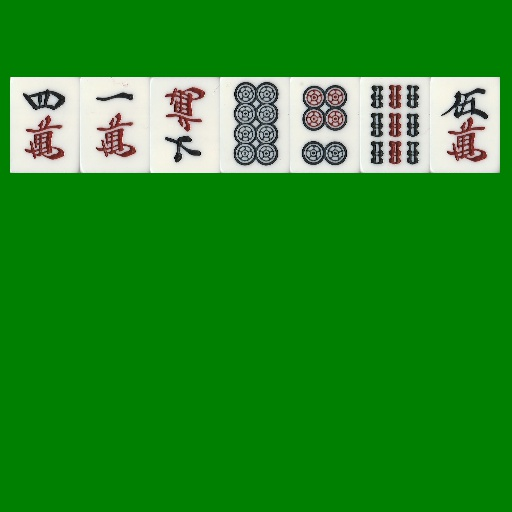1m: (80, 77, 150, 173)
4m: (10, 77, 80, 173)
5m: (430, 77, 500, 173)
6p: (290, 77, 360, 173)
7m: (150, 77, 220, 173)
8p: (220, 77, 290, 173)
9s: (360, 77, 430, 173)
